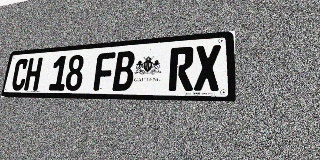1: (48, 55, 69, 91)
8: (64, 54, 85, 91)
B: (112, 51, 135, 91)
C: (10, 58, 29, 91)
F: (93, 52, 116, 91)
H: (23, 57, 43, 91)
R: (168, 46, 194, 91)
X: (194, 44, 221, 91)
